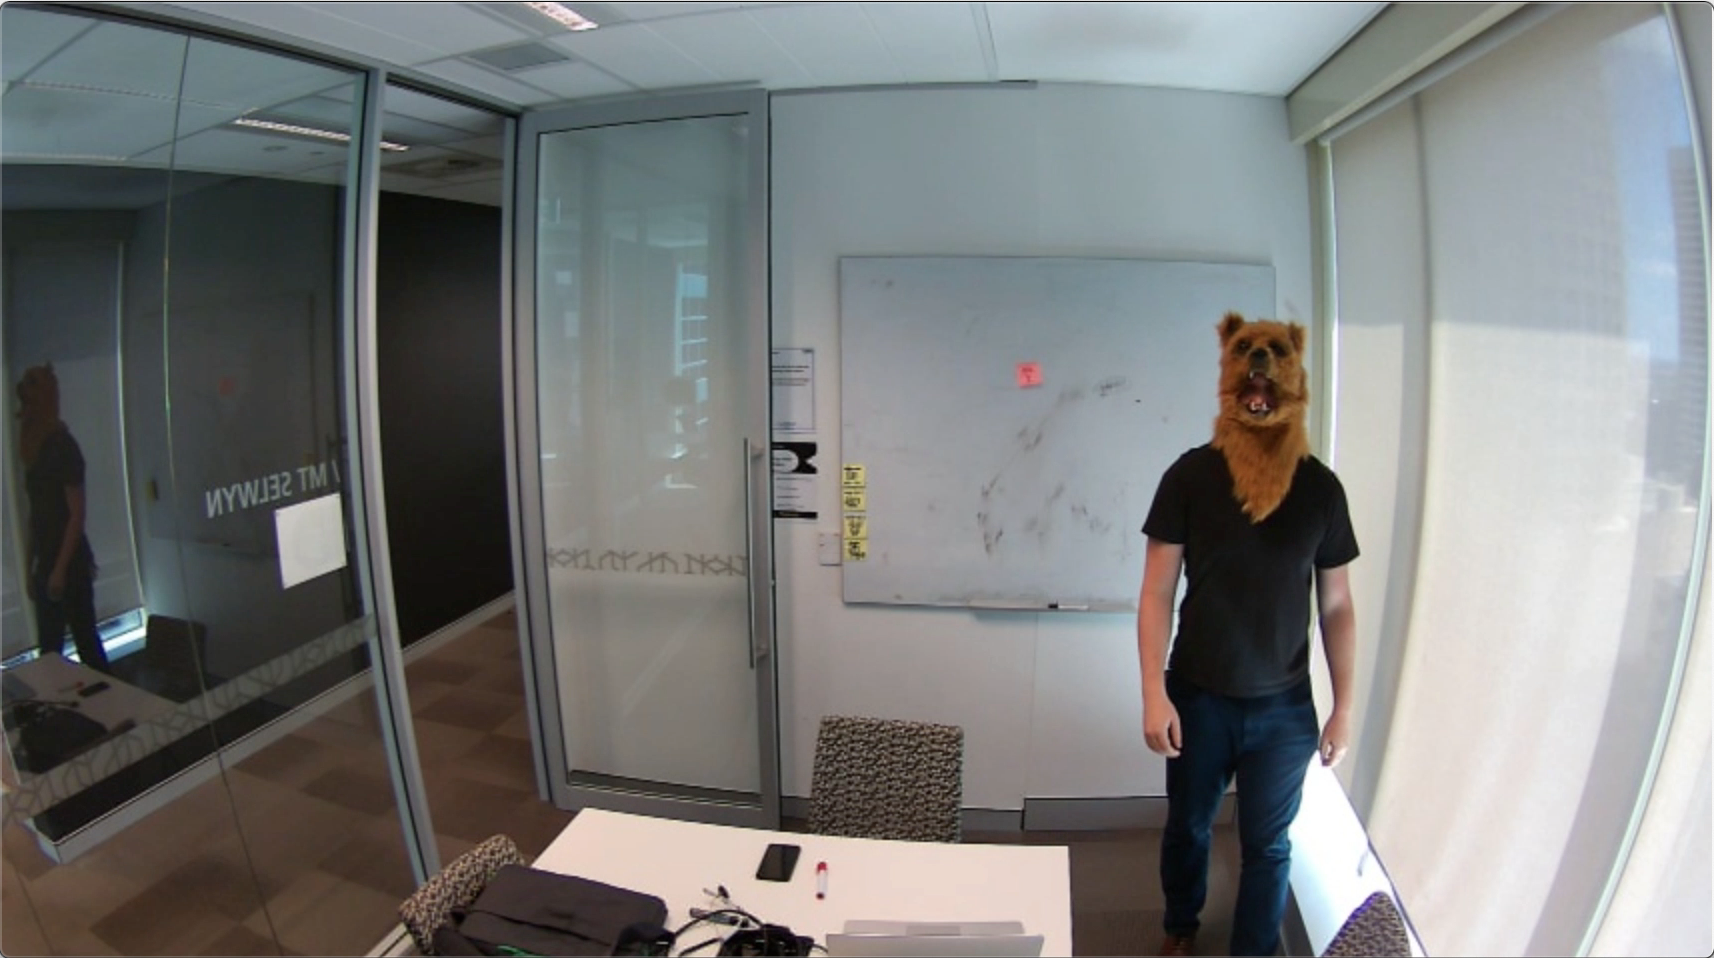Bear: (1213, 308, 1318, 455)
